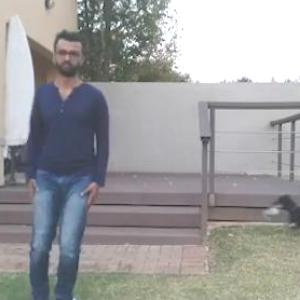follow: (21, 23, 123, 299)
